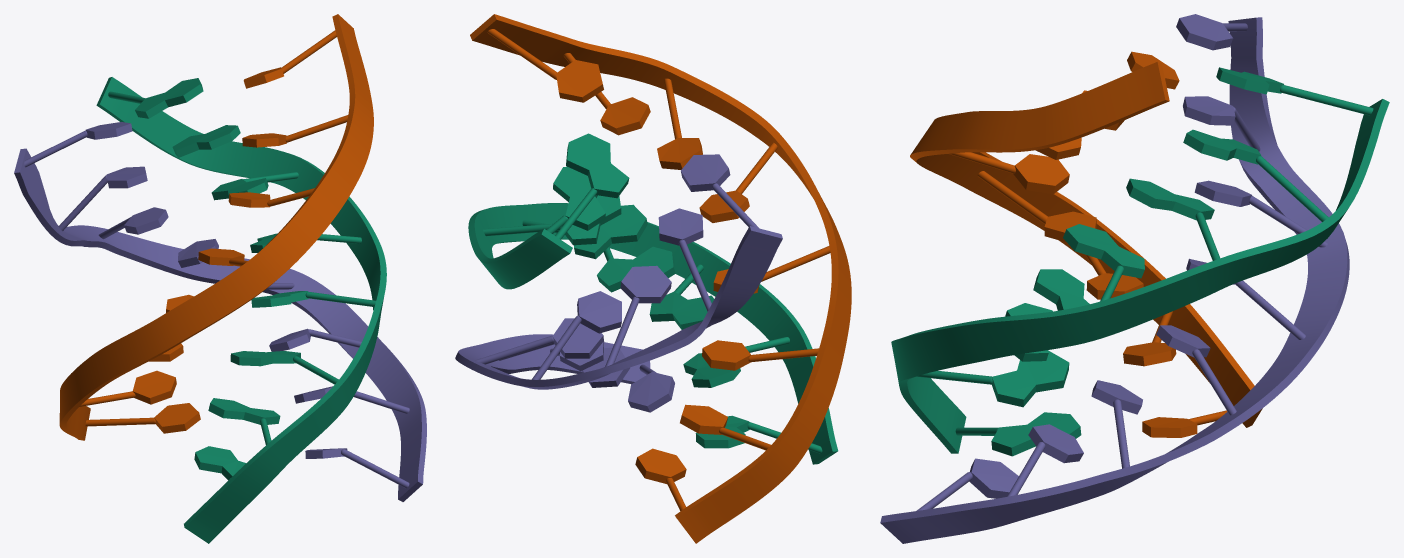
Rendered from H_DNA.glb.
The picture shows the model from 3 angles, left to right: view 1: azimuth 30°, elevation 25°; view 2: azimuth 150°, elevation 25°; view 3: azimuth 270°, elevation 25°; orthographic projection. The views are drawn at different scales.
Size of the model in its own units: 22.58 by 28.05 by 24.87.
